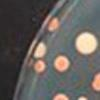orange: (52, 55, 70, 72), (90, 69, 100, 91), (35, 60, 47, 74), (48, 19, 60, 31), (51, 92, 69, 100)
white: (73, 30, 97, 56), (32, 41, 48, 58), (77, 93, 88, 100)
